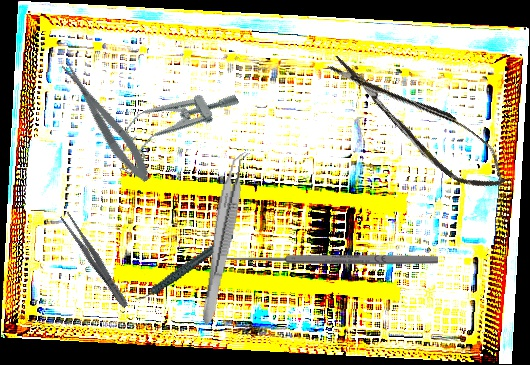Dressing Forceps: (58, 210, 132, 311)
Handpiece: (125, 233, 243, 303)
Hook Surgical: (217, 252, 438, 274)
Micro Scissor: (319, 36, 518, 206), (56, 55, 157, 188)
Speculum: (100, 68, 245, 179)
Tissue Forceps: (199, 149, 251, 327)
